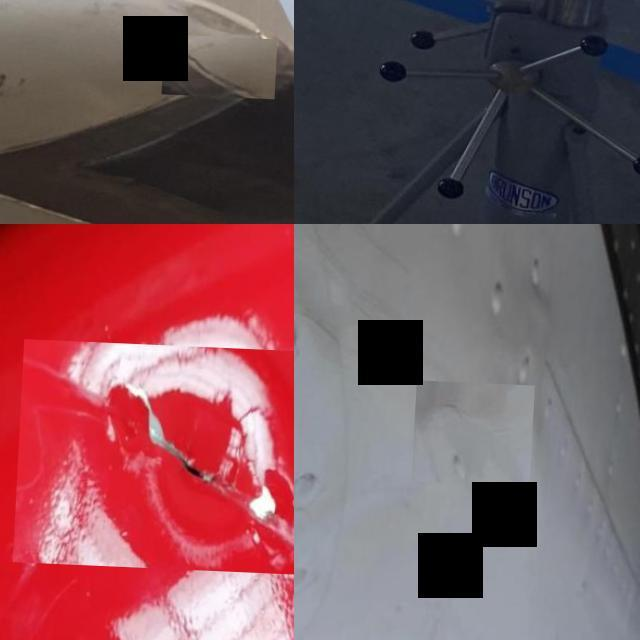Crack: (18, 337, 294, 571), (165, 30, 280, 94)
Dent: (421, 380, 535, 482), (294, 239, 386, 353)
